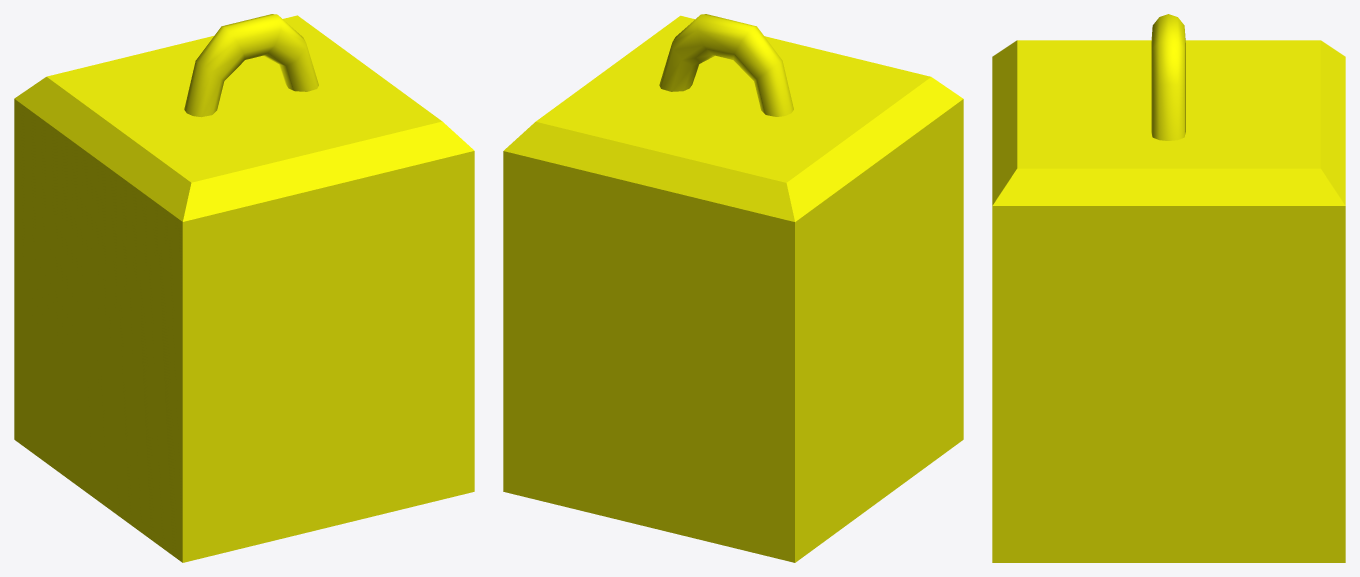
Rendered from parking_obstacle01.glb.
The picture shows the model from 3 angles, left to right: view 1: azimuth 30°, elevation 25°; view 2: azimuth 150°, elevation 25°; view 3: azimuth 270°, elevation 25°; orthographic projection. The views are drawn at different scales.
Visible parts, largest first — view 1: parking_obstacle01; view 2: parking_obstacle01; view 3: parking_obstacle01.
Part boxes in pixels (bbox=[...]): parking_obstacle01: bbox=[14, 14, 474, 562]; parking_obstacle01: bbox=[503, 14, 963, 562]; parking_obstacle01: bbox=[992, 14, 1345, 562].
Bounding box in the file's own units: 0.9 × 1.31 × 0.9.
1 material, 1 textured.
